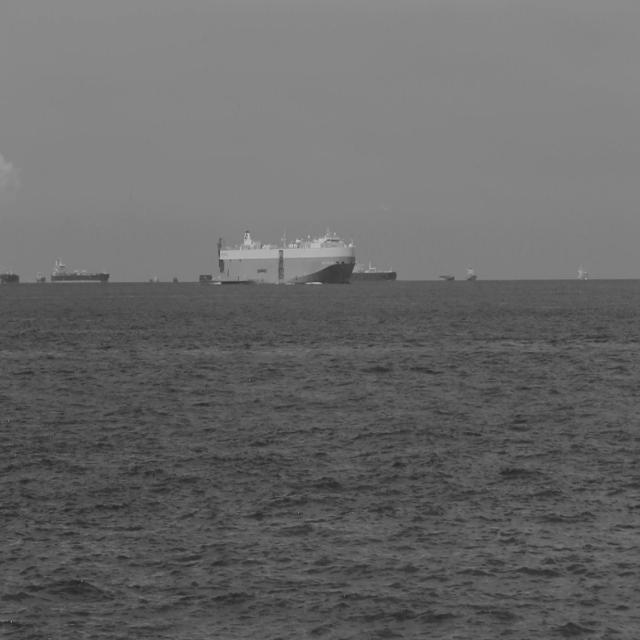boat: (149, 273, 159, 284)
ship: (216, 226, 355, 286), (50, 254, 110, 285), (349, 254, 397, 284), (0, 264, 20, 285), (576, 263, 588, 281), (466, 264, 477, 282), (35, 269, 46, 285), (198, 273, 213, 284), (438, 274, 455, 282)
